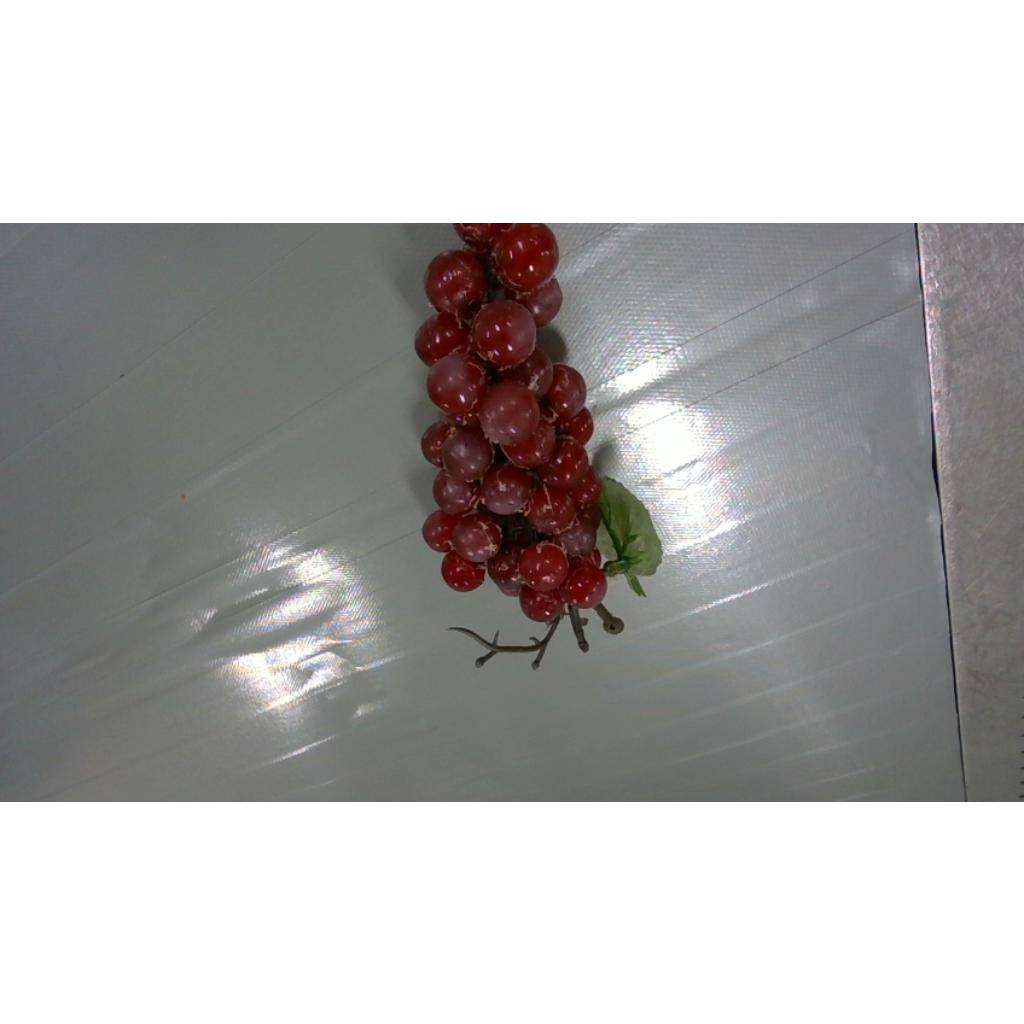grape: (414, 222, 662, 667)
